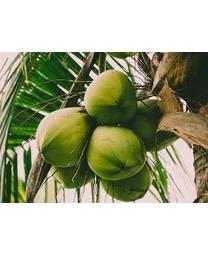coconut: (88, 125, 147, 182), (35, 107, 88, 167), (84, 70, 138, 125)
